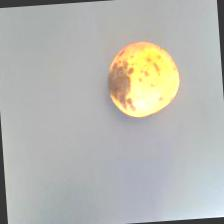Mango Overripe: (102, 36, 182, 121)
